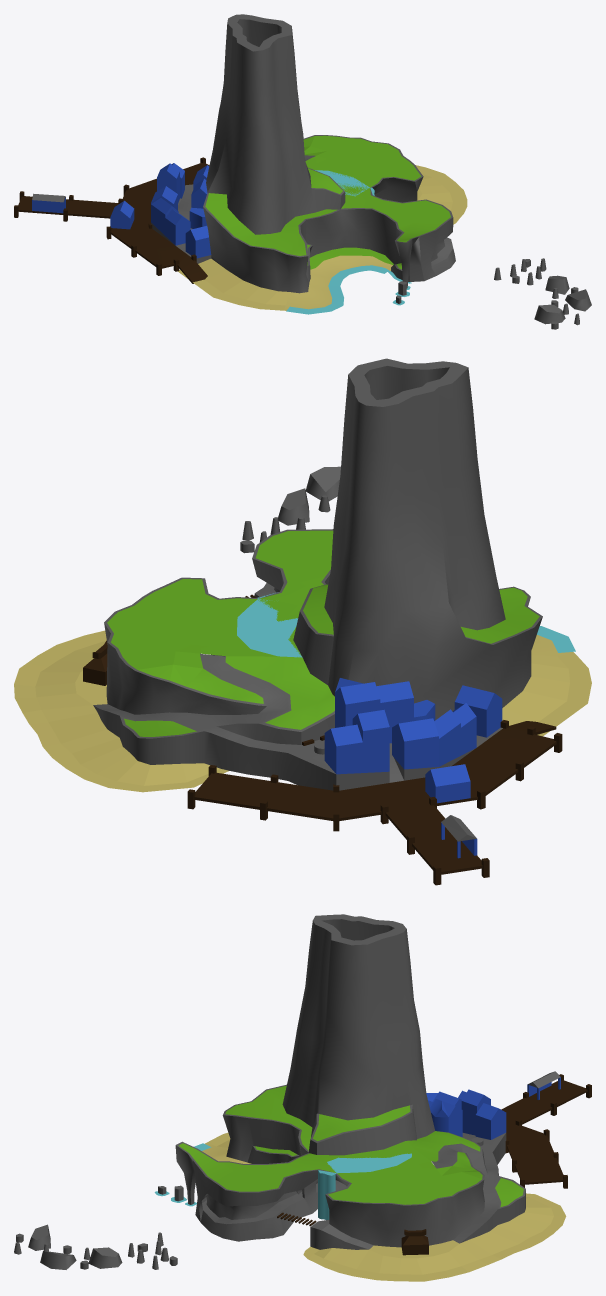
File: SM_BeachScene (3).fbx
3 views of the same model, one above another, from view 1: azimuth 30°, elevation 25°; view 2: azimuth 150°, elevation 25°; view 3: azimuth 270°, elevation 25° (orthographic). The views are drawn at different scales.
Visible parts, largest first — view 1: Cliffs, Sand, Box006, Rocks, Box041, Box051, Box035, Waves2, Object001, Waves1, Box044, Plane002 (+1 smaller); view 2: Cliffs, Sand, Box006, Plane002, Box042, Rocks, Object001, Box040, Box043, Box041, Box035, Box045 (+5 smaller); view 3: Cliffs, Sand, Box006, Rocks, Plane002, Box040, Box043, Object001, Box007, Cylinder023, Cylinder019.
Part boxes in pixels (x1,y1,x2,y2): Cliffs: (151, 14, 455, 293); Sand: (178, 165, 467, 310); Box006: (18, 162, 209, 283); Rocks: (306, 167, 406, 303); Box041: (185, 226, 211, 258); Box051: (165, 209, 190, 245); Box035: (110, 200, 134, 229); Waves2: (286, 268, 387, 314); Object001: (157, 163, 179, 203); Waves1: (288, 265, 389, 311); Box044: (151, 198, 178, 235); Plane002: (315, 170, 374, 196); Cliffs: (93, 358, 542, 790); Sand: (14, 584, 591, 792); Box006: (194, 721, 556, 874); Plane002: (237, 592, 302, 657); Box042: (392, 718, 438, 769); Rocks: (293, 584, 333, 685); Object001: (352, 709, 389, 772); Box040: (324, 724, 362, 774); Box043: (335, 678, 380, 727); Box041: (454, 685, 502, 737); Box035: (425, 764, 470, 803); Box045: (376, 681, 413, 743); Cliffs: (175, 914, 525, 1249); Sand: (202, 1086, 566, 1281); Box006: (501, 1080, 587, 1184); Rocks: (158, 1104, 416, 1201); Plane002: (318, 1153, 411, 1219); Box040: (475, 1103, 506, 1139); Box043: (430, 1099, 462, 1136); Object001: (461, 1089, 490, 1135); Box007: (401, 1229, 428, 1255); Cylinder023: (88, 1247, 122, 1268); Cylinder019: (40, 1251, 76, 1269).
Size of what is drawn, in the model's own units: 10609 by 6047 by 13245.
